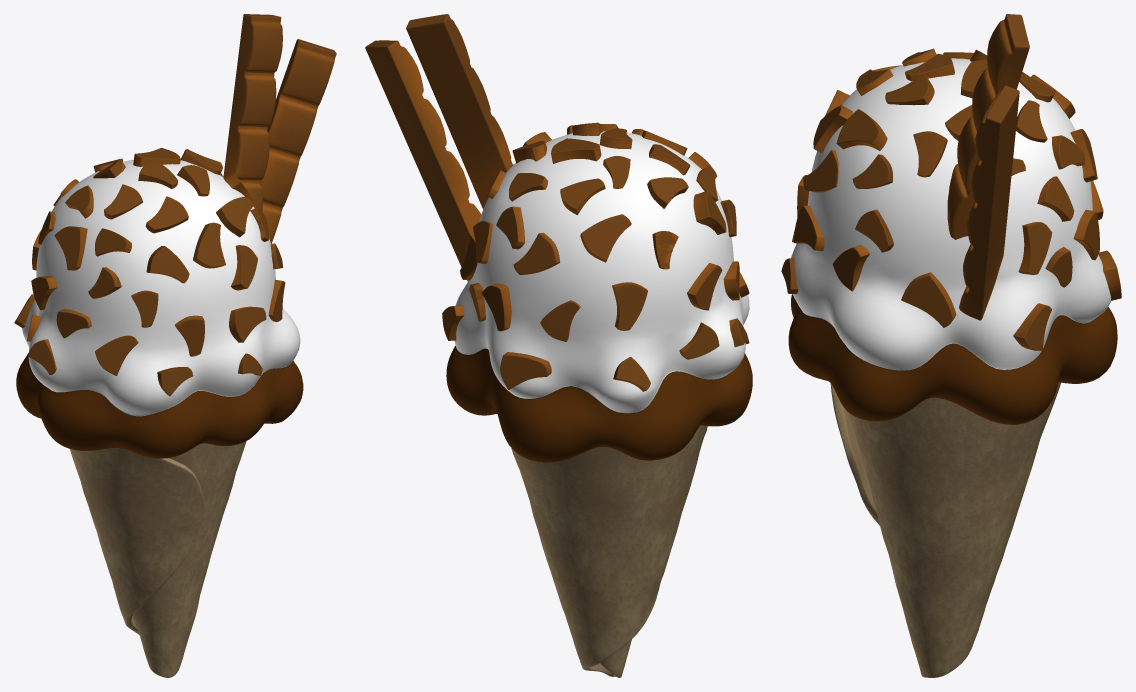
The model's file is Project Name.gltf.
The picture shows the model from 3 angles, left to right: view 1: azimuth 30°, elevation 25°; view 2: azimuth 150°, elevation 25°; view 3: azimuth 270°, elevation 25°; orthographic projection. The views are drawn at different scales.
Parts seen in each view (by area): view 1: Chocolate-chip ice cream cornet; view 2: Chocolate-chip ice cream cornet; view 3: Chocolate-chip ice cream cornet.
Boxes of the visible parts, <box> form: Chocolate-chip ice cream cornet: <box>14,14,336,677</box>; Chocolate-chip ice cream cornet: <box>365,14,752,677</box>; Chocolate-chip ice cream cornet: <box>781,14,1121,677</box>.
Bounding box in the file's own units: 0.0845 × 0.1497 × 0.0632.
1 material, 1 textured.
